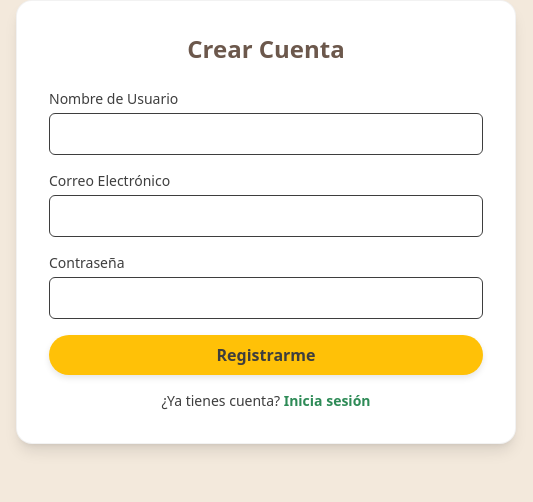
Test: RegisterPage › muestra mensaje de error si Supabase devuelve error
In the field labelled "Nombre de Usuario": (266, 134) [49,113,483,155], type "Bernardo"
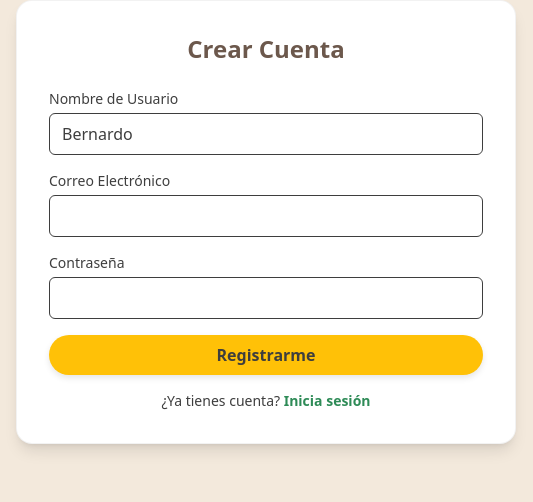
In the field labelled "Correo Electrónico": (266, 216) [49,195,483,237], type "bernardo@test.com"
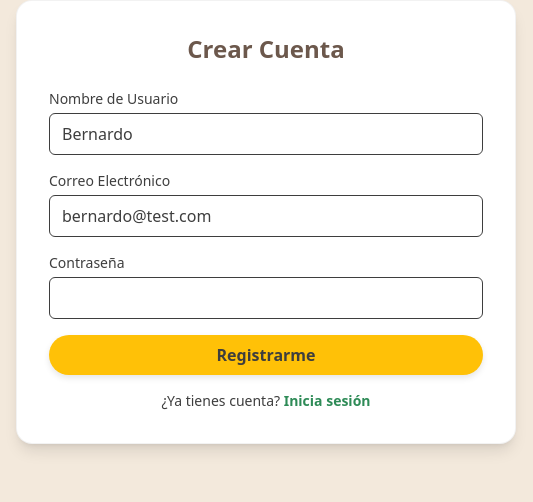
In the password field labelled "Contraseña": (266, 298) [49,277,483,319], type "123456"
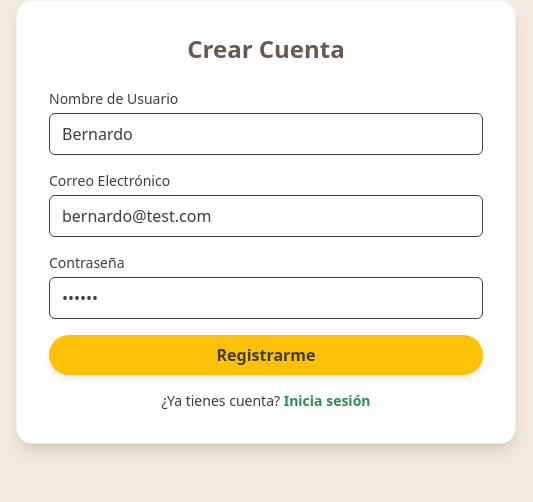
Submit the form from the button "Registrarme", box [49,335,483,375]
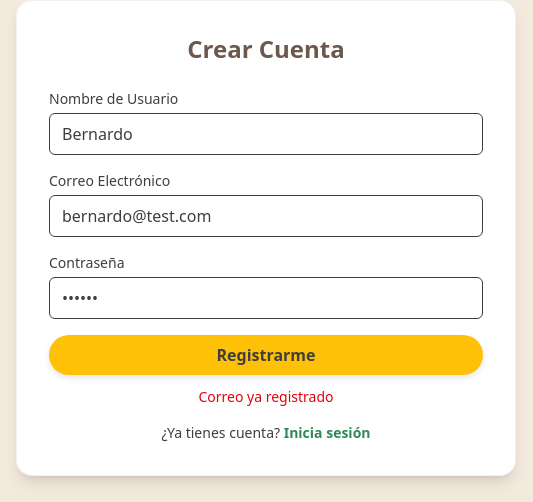
Now the text "Correo ya registrado" is shown, box [198,387,334,406]
